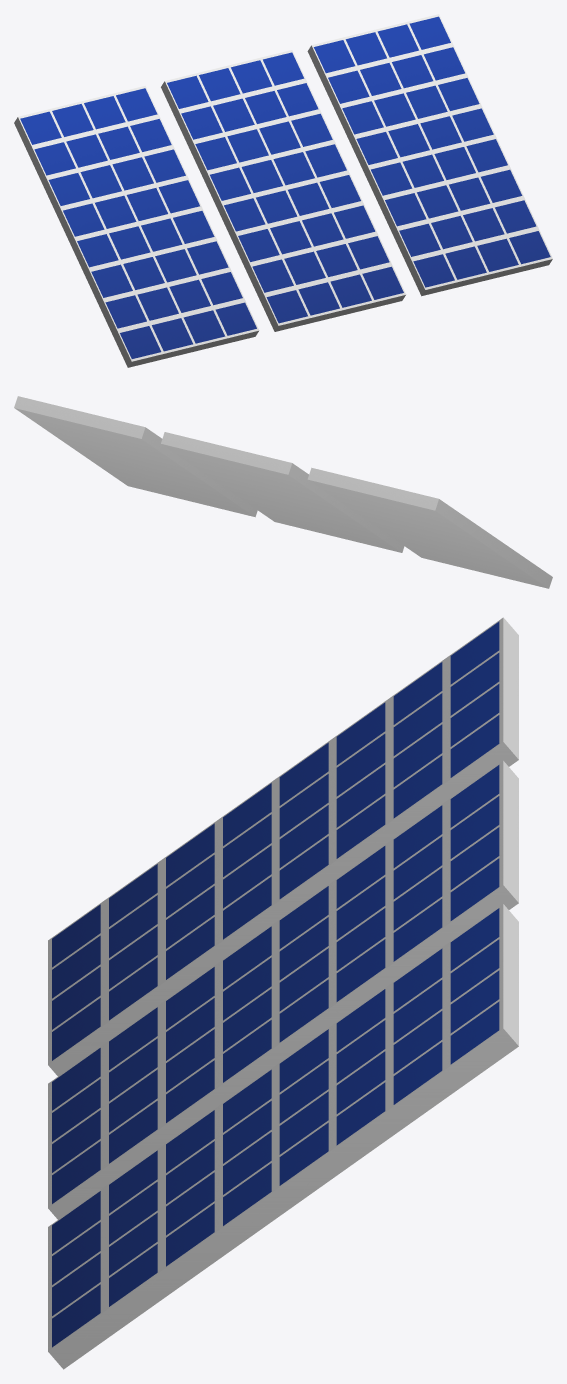
File: Solar Panels.obj
The picture shows the model from 3 angles, top to bottom: view 1: azimuth 30°, elevation 25°; view 2: azimuth 150°, elevation 25°; view 3: azimuth 270°, elevation 25°; orthographic projection. The views are drawn at different scales.
Visible parts, largest first — view 1: Cube.003_Cube.004; view 2: Cube.003_Cube.004; view 3: Cube.003_Cube.004.
Boxes of the visible parts, x1,y1,x2,y2 form: Cube.003_Cube.004: (14,14,552,367); Cube.003_Cube.004: (14,396,552,588); Cube.003_Cube.004: (48,617,518,1369).
Size of the model in its own units: 6.54 by 2.53 by 3.17.
